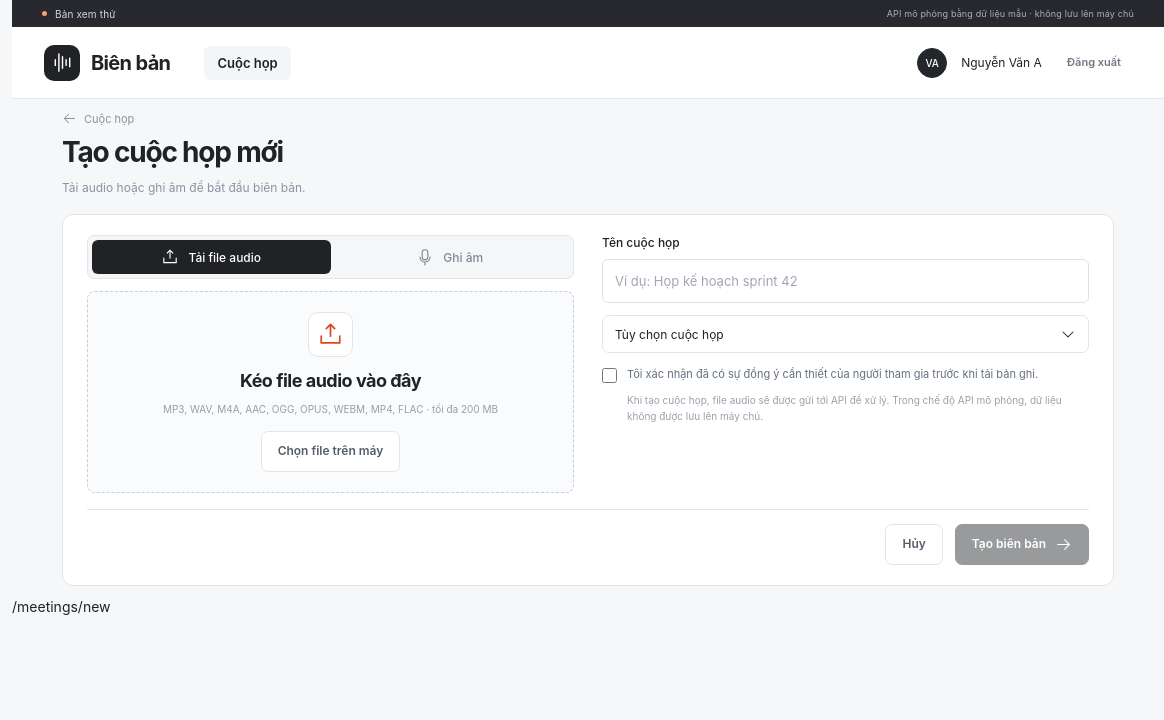
Test: FE-03 session guard and logout › keeps the session when logout fails on the network
What coordinates should you click on to do the following:
click the button "Đăng xuất"
I would click on:
 (1094, 62)
Its box is x1=1056 y1=48 x2=1132 y2=78.
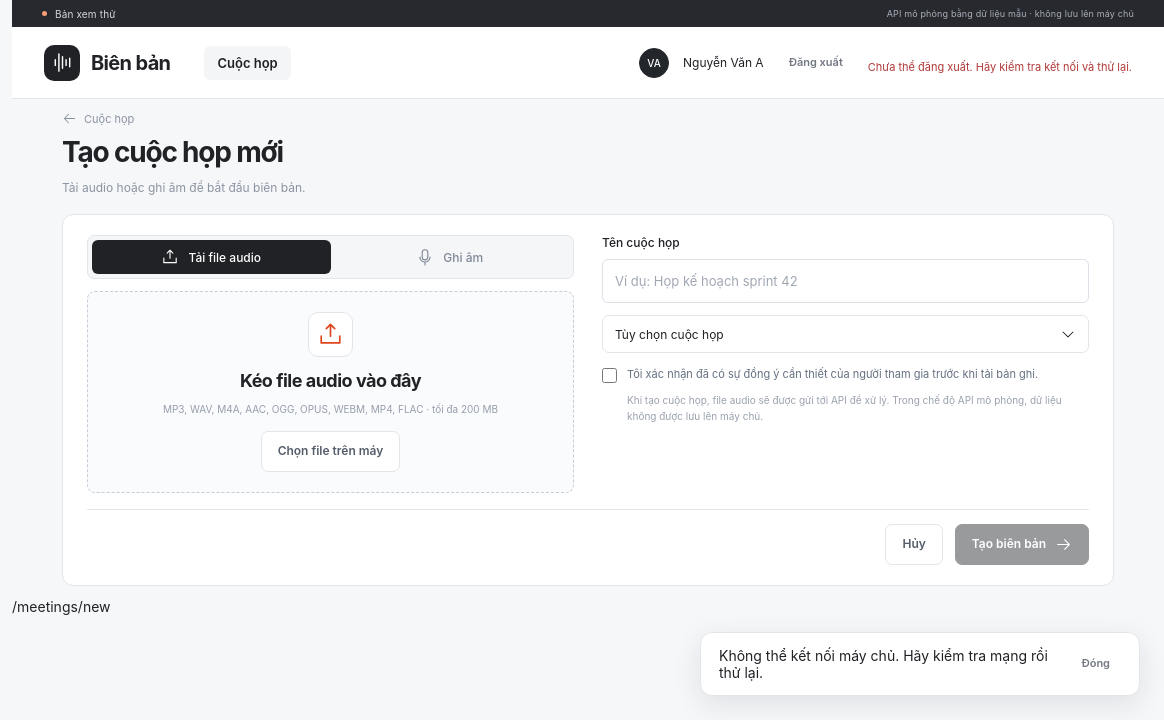
Expected: the heading "Tạo cuộc họp mới" is shown, x1=62 y1=135 x2=283 y2=169
Now the message "Chưa thể đăng xuất. Hãy kiểm tra kết nối và thử lại." is shown, box x1=868 y1=58 x2=1132 y2=77
